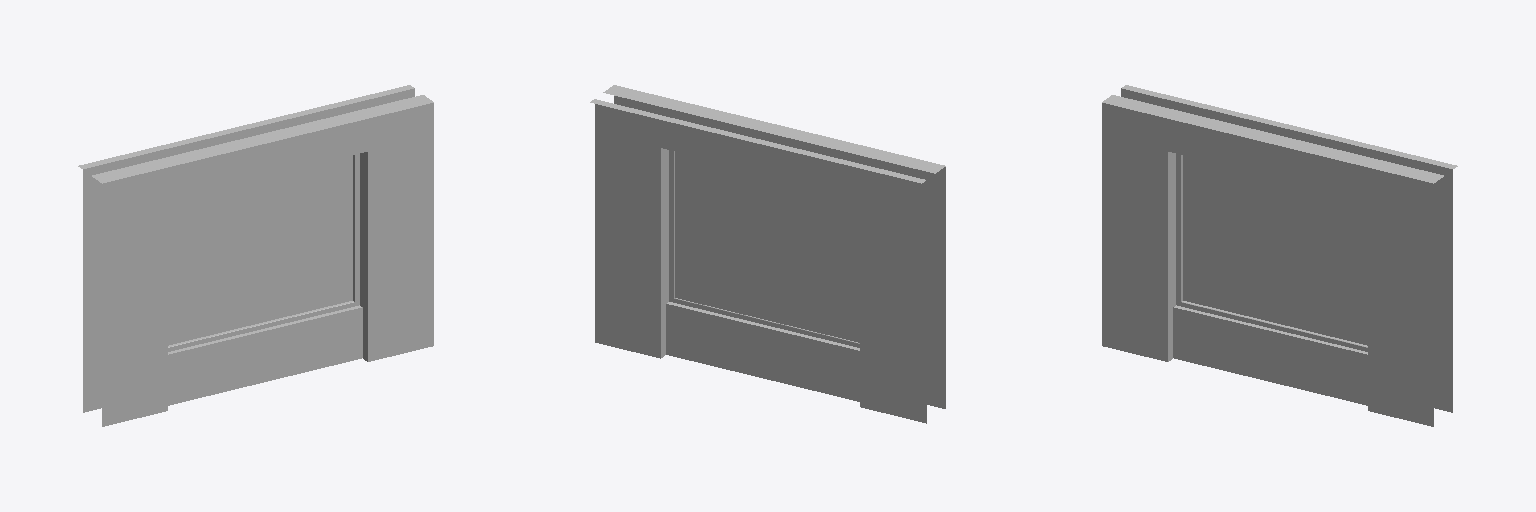
The model's file is Building_Bottom_Straight_A_LOD0.obj.
The picture shows the model from 3 angles: view 1: azimuth 30°, elevation 25°; view 2: azimuth 150°, elevation 25°; view 3: azimuth 330°, elevation 25°; orthographic projection.
Parts seen in each view (by area): view 1: Building_Bottom_Straight_A_LOD0 Building_Bottom_Straight_A; view 2: Building_Bottom_Straight_A_LOD0 Building_Bottom_Straight_A; view 3: Building_Bottom_Straight_A_LOD0 Building_Bottom_Straight_A.
Part boxes in pixels (left/top/right/bottom): Building_Bottom_Straight_A_LOD0 Building_Bottom_Straight_A: left=78, top=85, right=433, bottom=426; Building_Bottom_Straight_A_LOD0 Building_Bottom_Straight_A: left=590, top=85, right=945, bottom=423; Building_Bottom_Straight_A_LOD0 Building_Bottom_Straight_A: left=1102, top=85, right=1457, bottom=426.
Size of the model in its own units: 500 by 350 by 63.11.